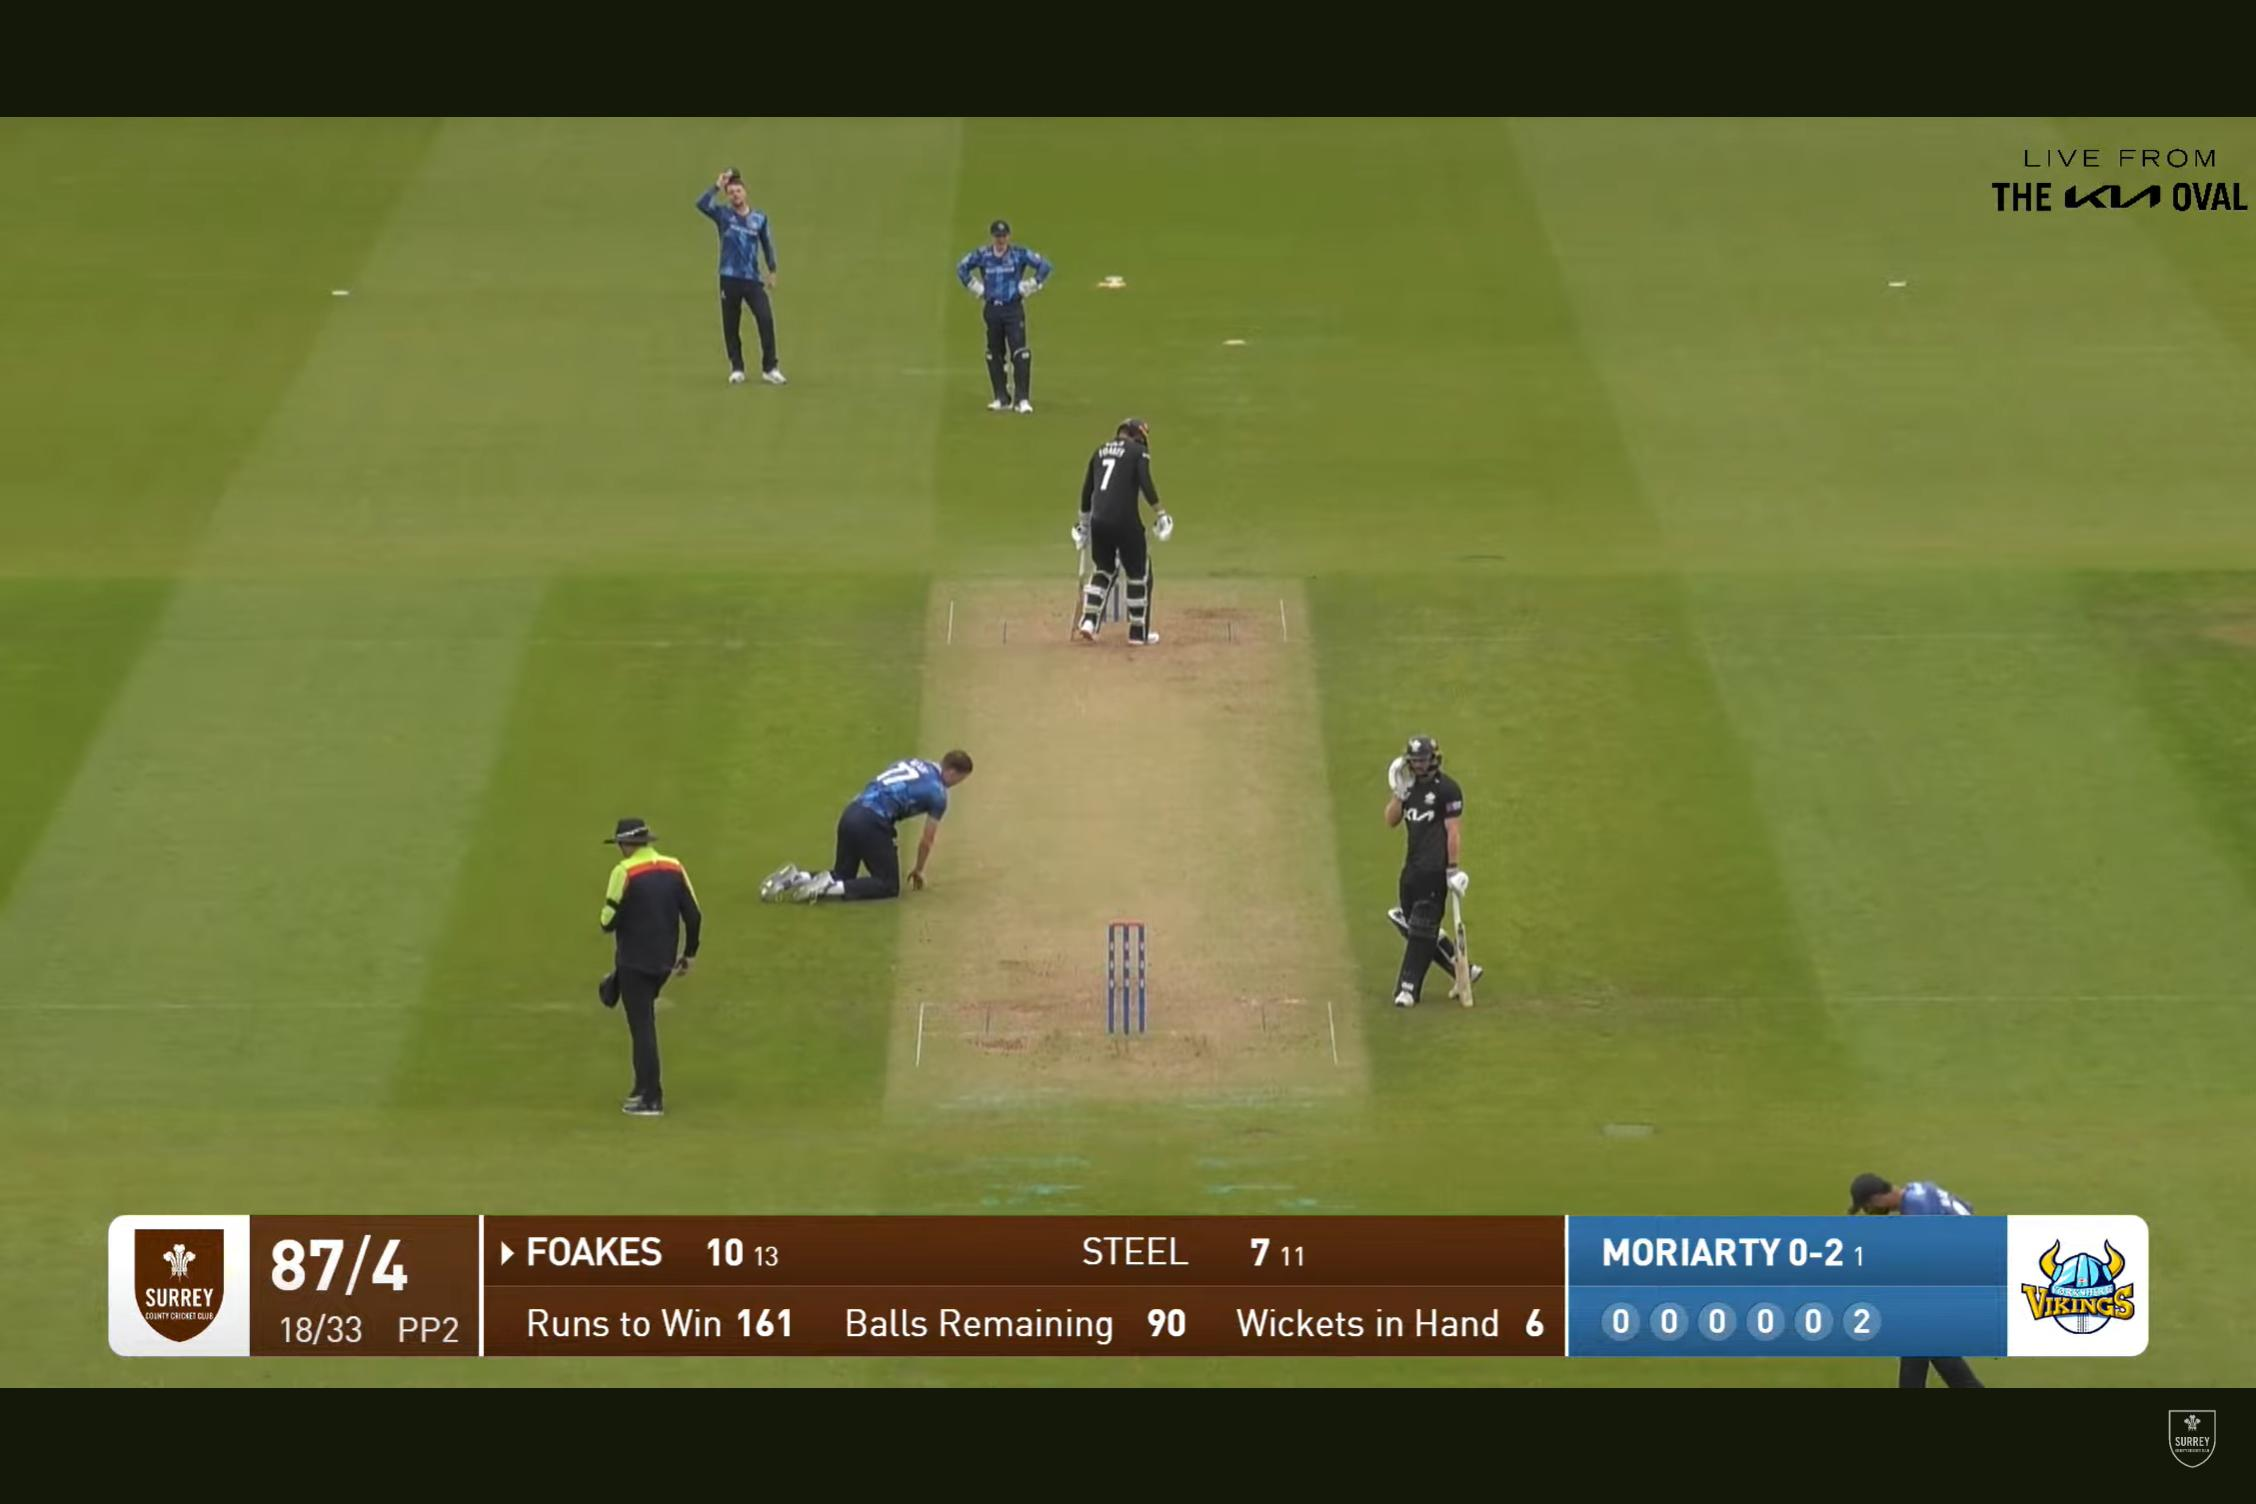batsman: (1037, 396, 1200, 661)
bowler walking back: (752, 698, 999, 927)
non striker: (1355, 678, 1511, 1027)
stumps: (1089, 901, 1172, 1049)
umpire: (530, 802, 732, 1125)
